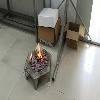fire: (37, 40, 43, 59), (30, 54, 32, 60)
